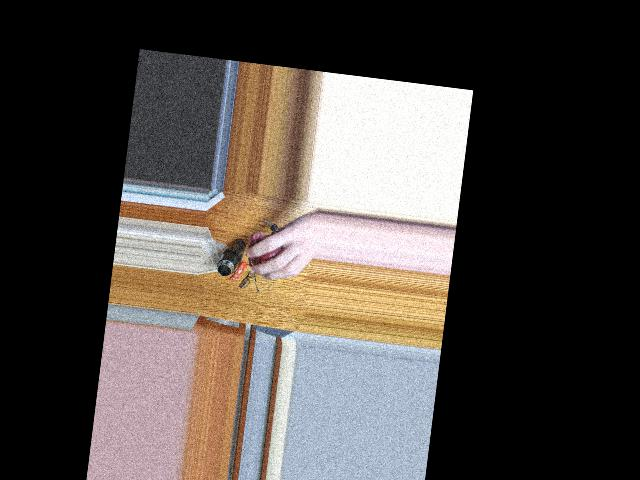onion: (253, 228, 292, 273)
